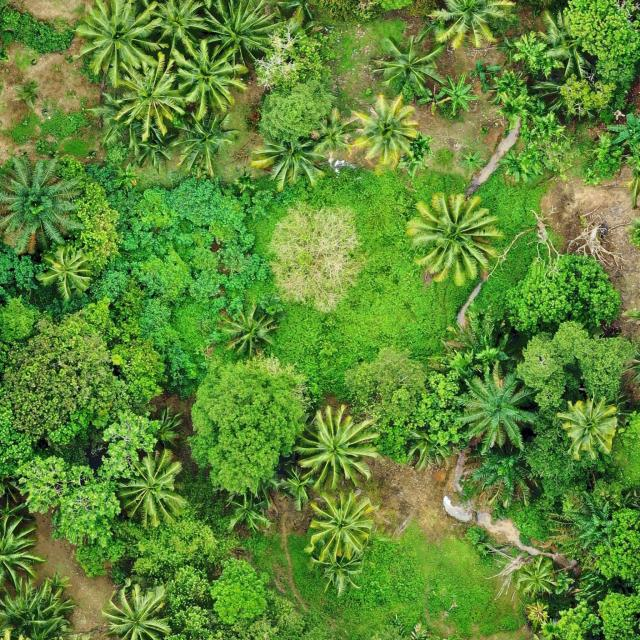Tree: (14, 412, 162, 544), (0, 294, 118, 450), (190, 356, 308, 501), (516, 320, 638, 409), (0, 146, 95, 256), (502, 251, 623, 334), (87, 53, 188, 152), (406, 192, 504, 290), (295, 404, 380, 492), (76, 0, 160, 86), (456, 365, 538, 453), (169, 34, 247, 121), (562, 0, 640, 85), (108, 448, 188, 530), (167, 104, 240, 180), (349, 94, 420, 172), (464, 443, 544, 512), (249, 125, 329, 191), (200, 0, 279, 66), (0, 573, 77, 639), (258, 76, 334, 142), (307, 489, 375, 562), (424, 0, 516, 53), (546, 493, 618, 560), (377, 30, 445, 99), (556, 395, 620, 462), (101, 586, 170, 640), (218, 299, 279, 360), (0, 513, 45, 594), (37, 244, 94, 303), (307, 550, 363, 596), (433, 70, 479, 116), (407, 427, 454, 472), (510, 31, 548, 78), (498, 149, 542, 183), (606, 111, 640, 149), (468, 60, 502, 83), (459, 150, 487, 171)
